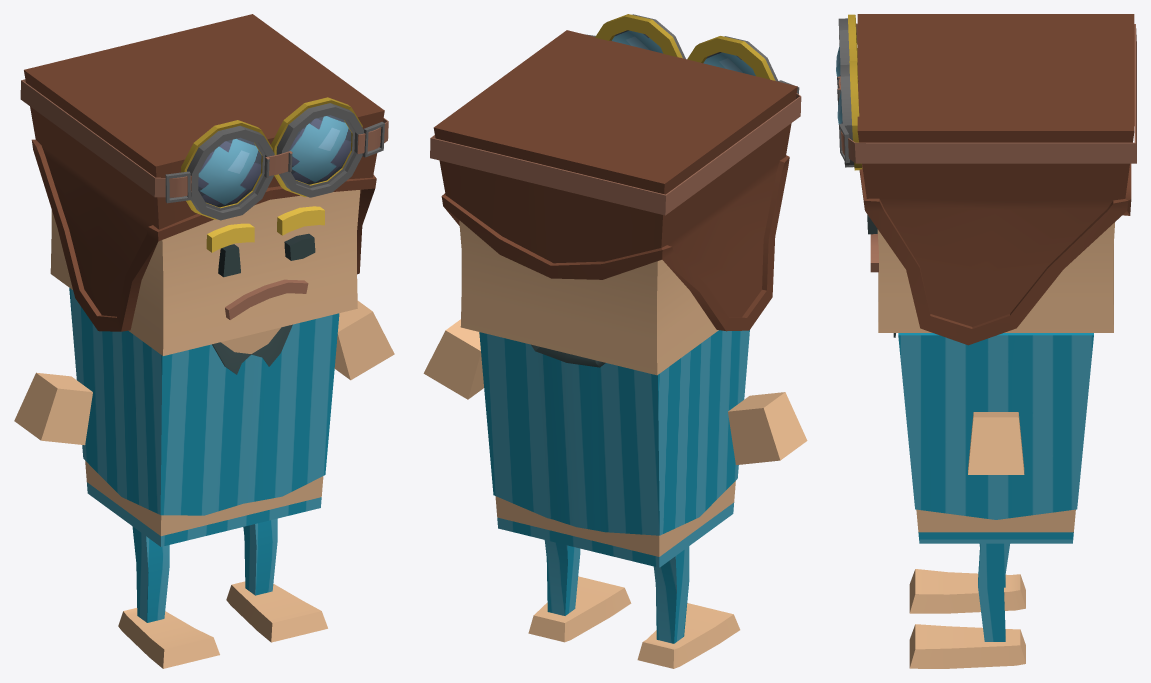
Rendered from player_char.fbx.
The picture shows the model from 3 angles, left to right: view 1: azimuth 30°, elevation 25°; view 2: azimuth 150°, elevation 25°; view 3: azimuth 270°, elevation 25°; orthographic projection. The views are drawn at different scales.
Parts seen in each view (by area): view 1: polySurface17; view 2: polySurface17; view 3: polySurface17.
Part boxes in pixels (x1,y1,x2,y2): polySurface17: [14, 14, 394, 668]; polySurface17: [423, 14, 807, 668]; polySurface17: [836, 14, 1136, 668].
Bounding box in the file's own units: 71.46 × 108 × 50.23.
